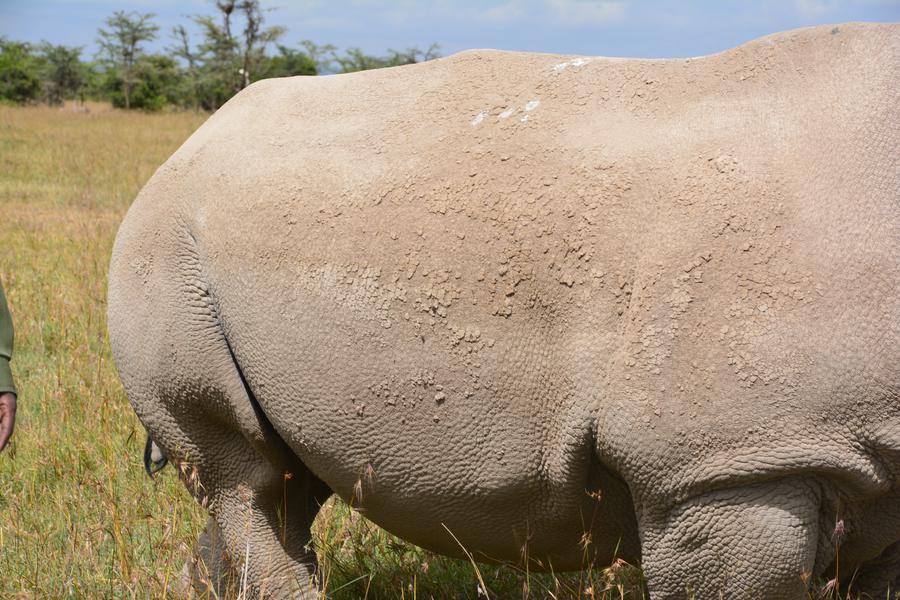rhino: (100, 47, 887, 582)
